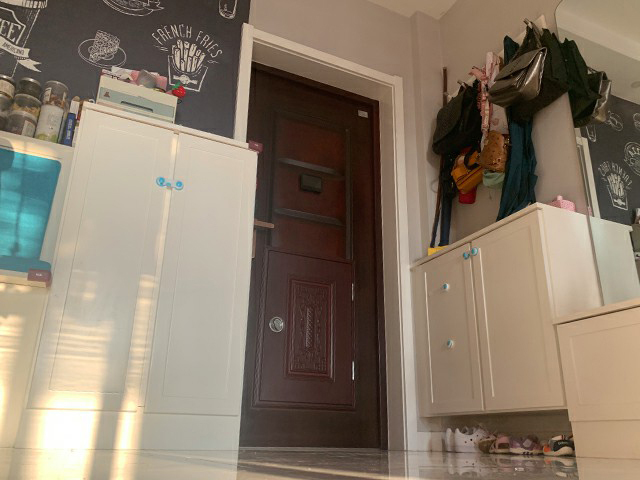cabinet: (14, 101, 262, 452), (551, 296, 640, 460)
